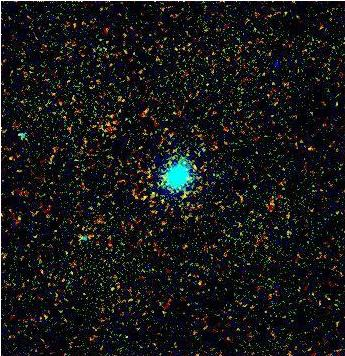star: (260, 51, 290, 81)
